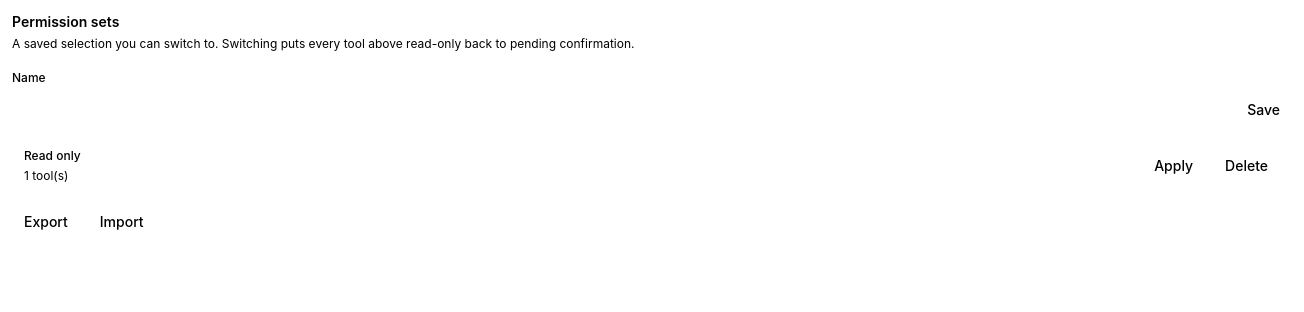
Test: a host that refuses the write says so
This screenshot has width=1304, height=312.
Click the button "Export" at (46, 222), box [12, 204, 80, 240]
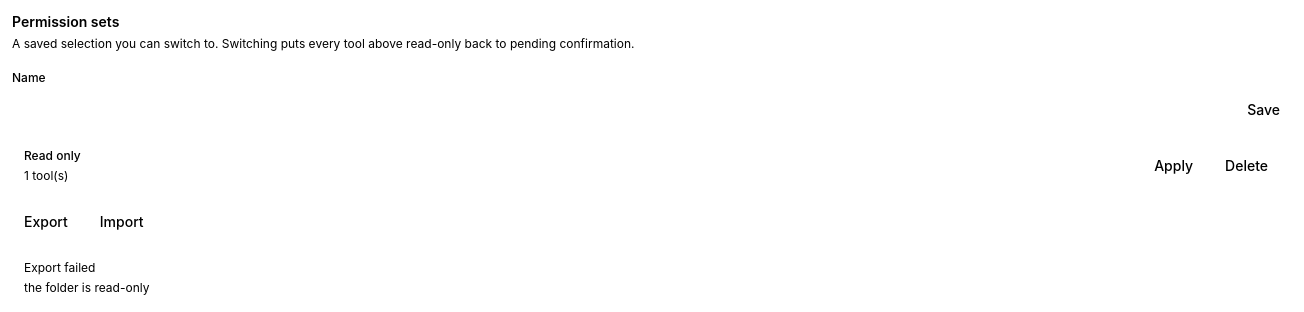
Expected: the message with test id "permission-set-host-error" shows "Export failed", [24, 260, 96, 275]
Expected: the message with test id "permission-set-host-error" shows "the folder is read-only", [24, 280, 150, 295]
